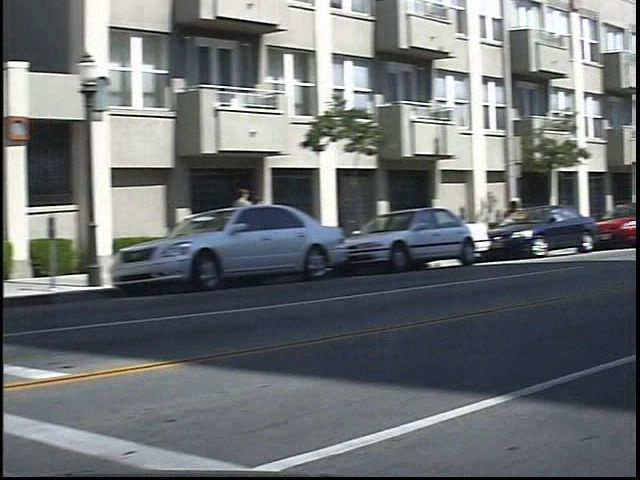person: (245, 183, 269, 265), (265, 192, 285, 255)
